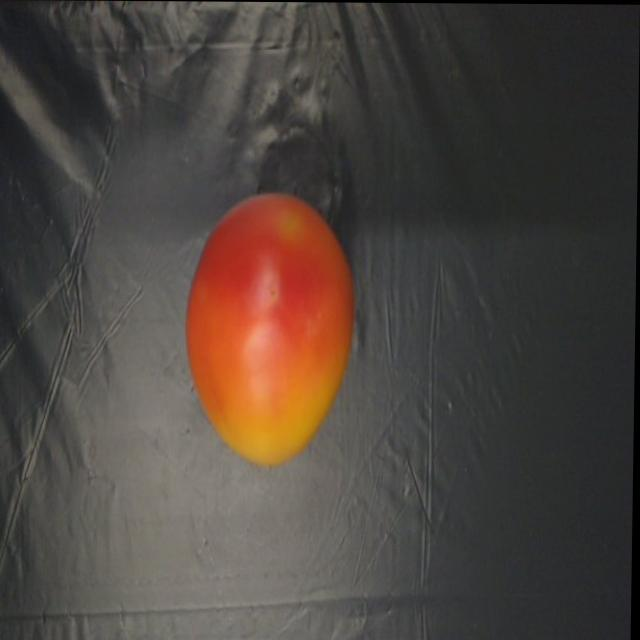sari: (157, 163, 364, 478)
